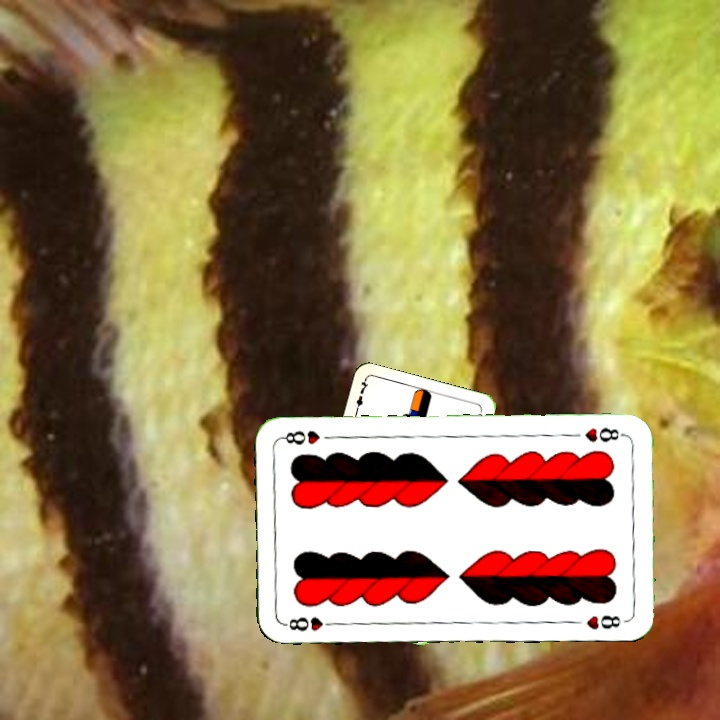E7: (351, 377, 371, 417)
H8: (280, 613, 340, 634), (580, 423, 628, 445)
